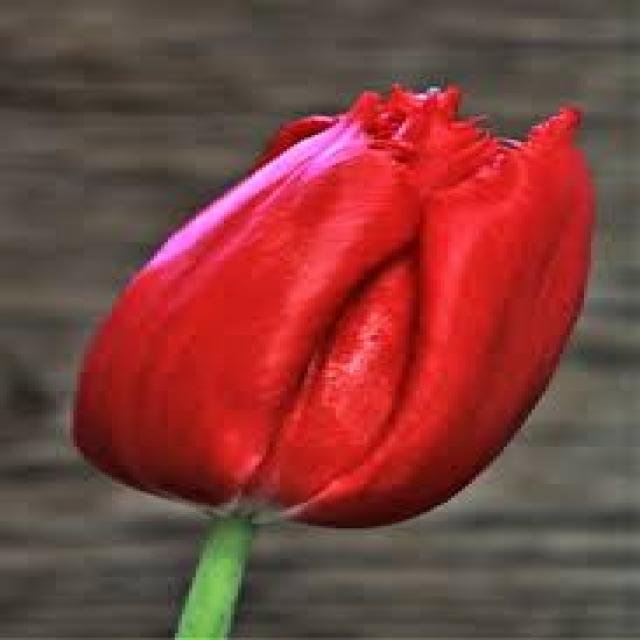tulip: (45, 51, 617, 557)
